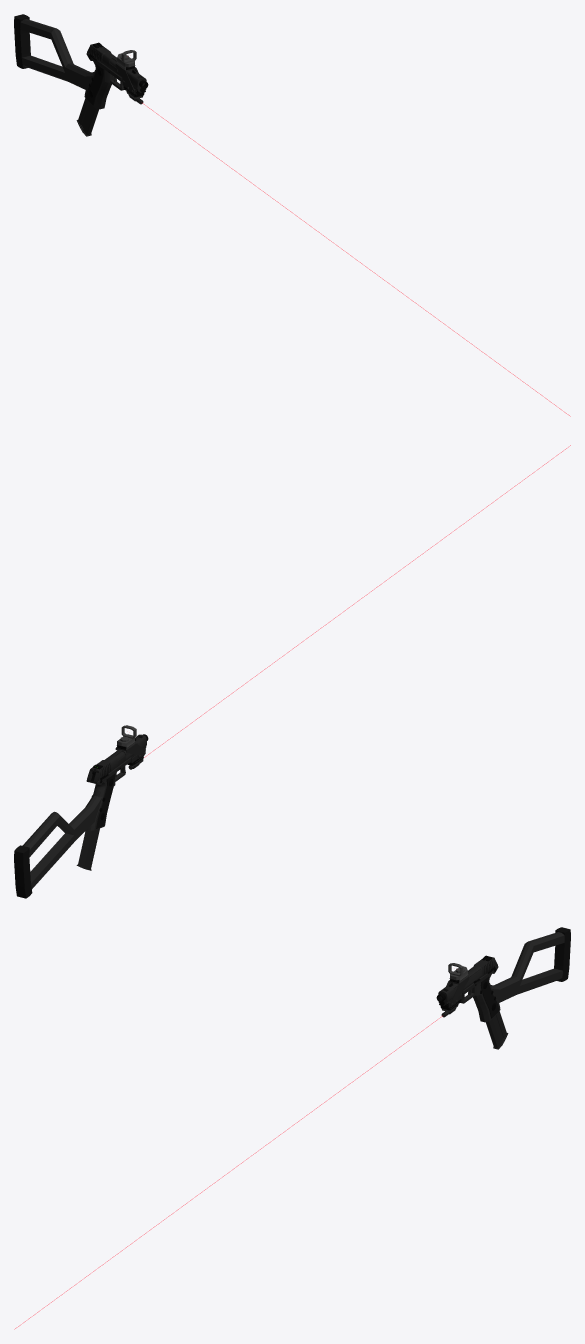
File: pistolcarbine.fbx
3 views of the same model, one above another, from view 1: azimuth 30°, elevation 25°; view 2: azimuth 150°, elevation 25°; view 3: azimuth 330°, elevation 25° (orthographic).
Parts seen in each view (by area): view 1: pistolcarbine; view 2: pistolcarbine; view 3: pistolcarbine.
Part boxes in pixels (box(x1,y1,x2,y2)): pistolcarbine: box(14, 14, 570, 416); pistolcarbine: box(14, 445, 570, 898); pistolcarbine: box(14, 927, 570, 1329).
Bounding box in the file's own units: 4 × 33.23 × 292.
